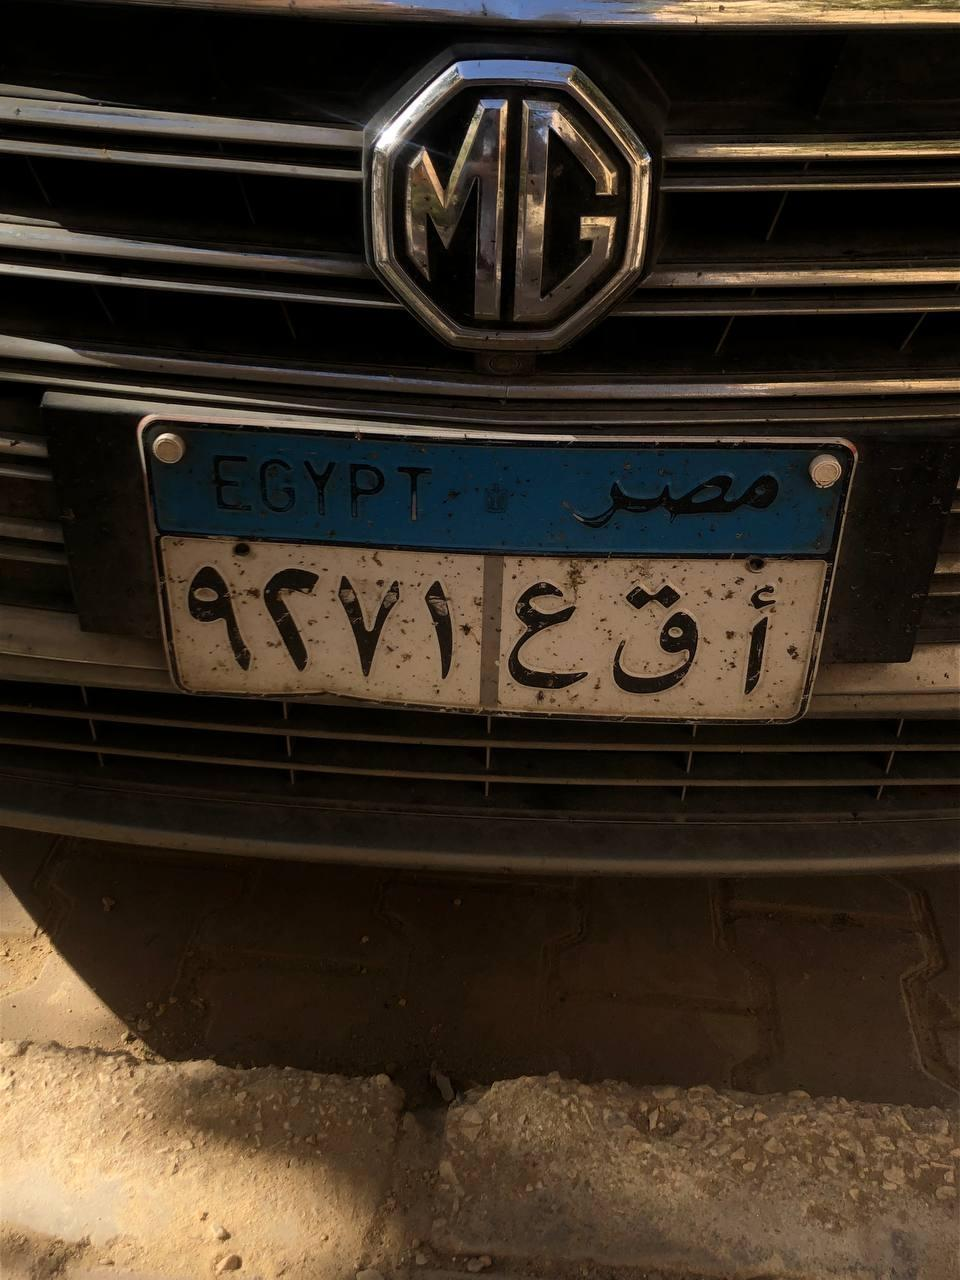1: (415, 578, 462, 682)
2: (257, 568, 321, 674)
7: (330, 562, 408, 680)
9: (188, 550, 265, 666)
Een: (508, 580, 599, 696)
License Plate: (115, 400, 860, 756)
Q: (610, 580, 696, 690)
alef: (740, 577, 783, 692)
